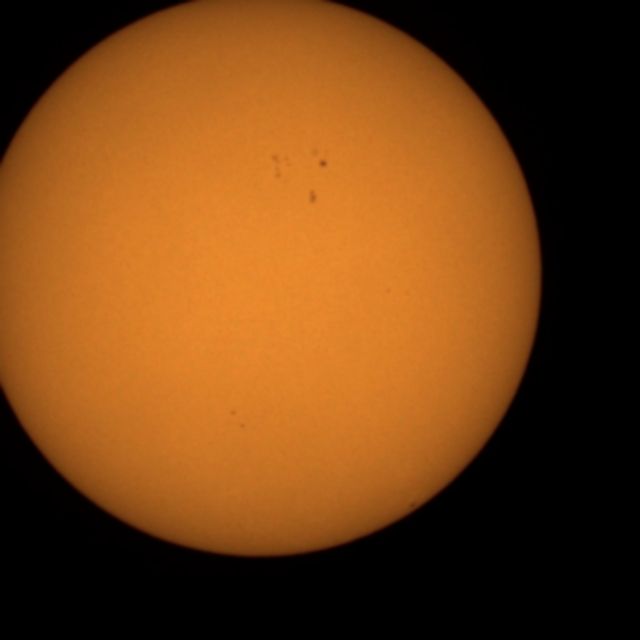sunspot: (269, 152, 292, 181), (312, 146, 330, 170), (228, 408, 246, 430), (306, 188, 319, 207), (228, 408, 240, 422), (317, 157, 329, 170)
